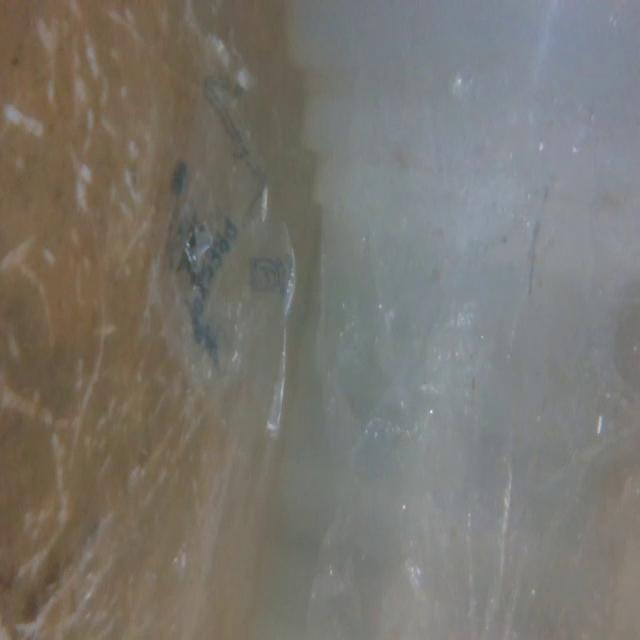plastic bags: (305, 65, 567, 640), (151, 34, 298, 470)
